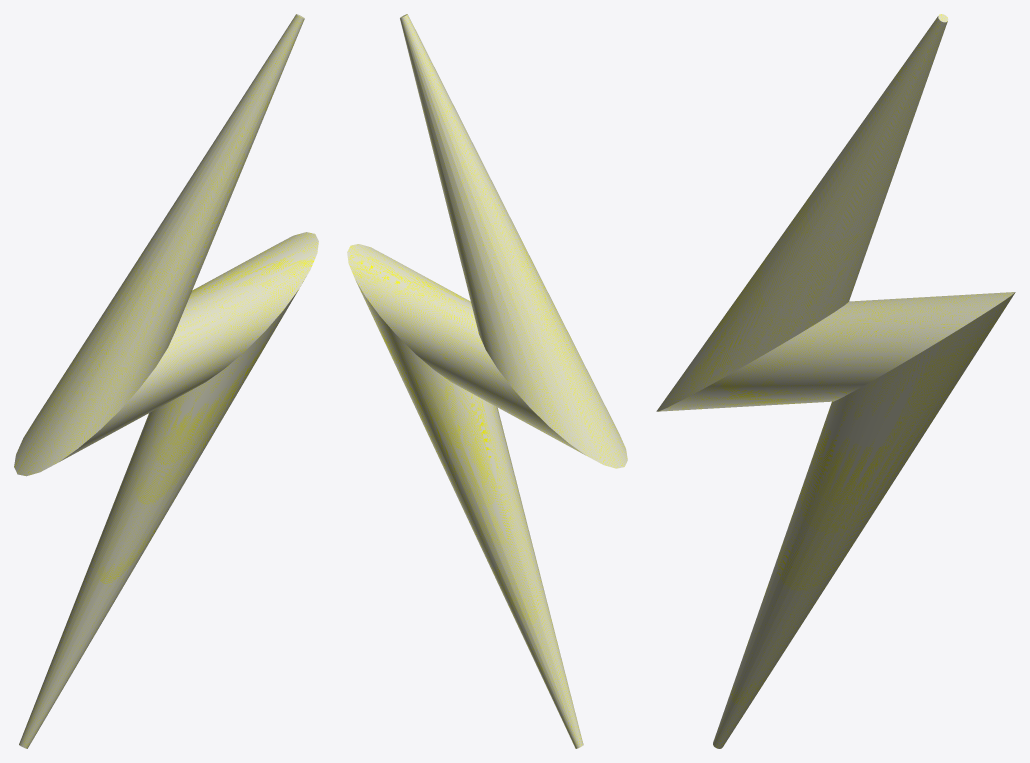
3 renders of one model, left to right at view 1: azimuth 30°, elevation 25°; view 2: azimuth 150°, elevation 25°; view 3: azimuth 330°, elevation 25°, orthographic. The views are drawn at different scales.
Parts seen in each view (by area): view 1: SketchUp; view 2: SketchUp; view 3: SketchUp.
Boxes of the visible parts, left/top/right/bottom form: SketchUp: left=14, top=14, right=318, bottom=748; SketchUp: left=347, top=14, right=627, bottom=748; SketchUp: left=656, top=14, right=1015, bottom=748.
Bounding box in the file's own units: 70.89 × 20 × 161.
